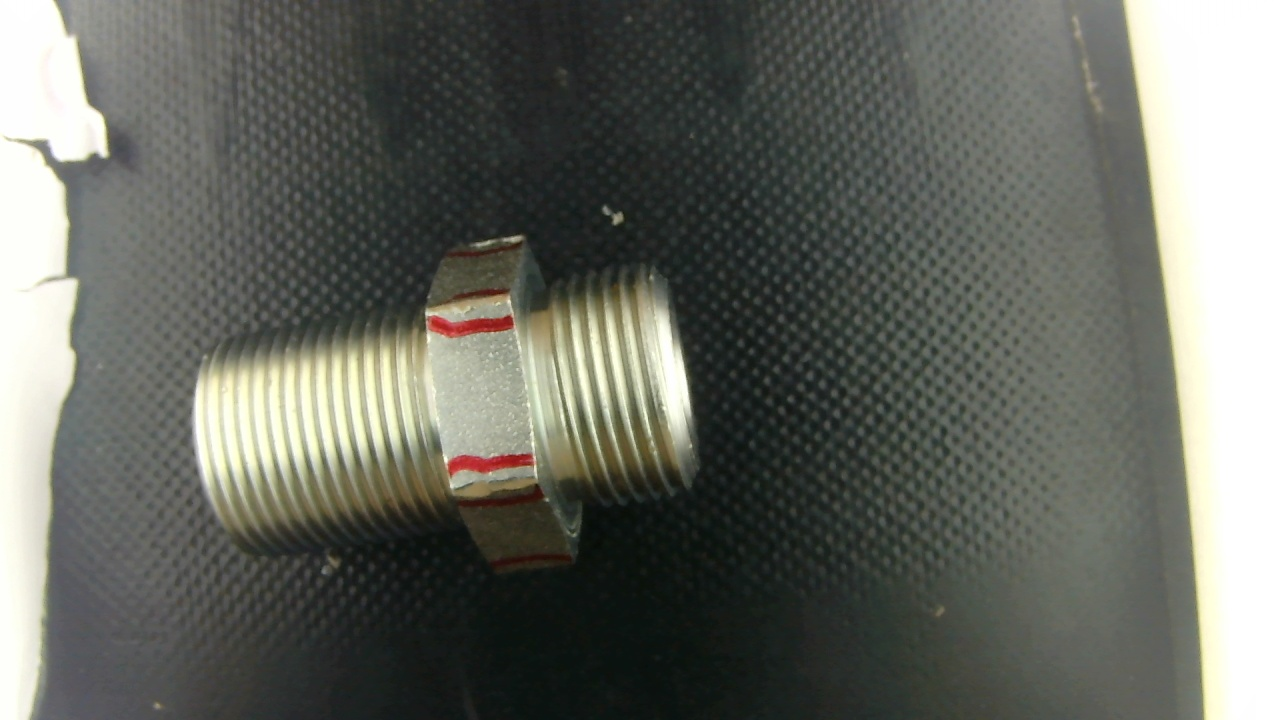Hex_damage: (422, 291, 505, 322)
